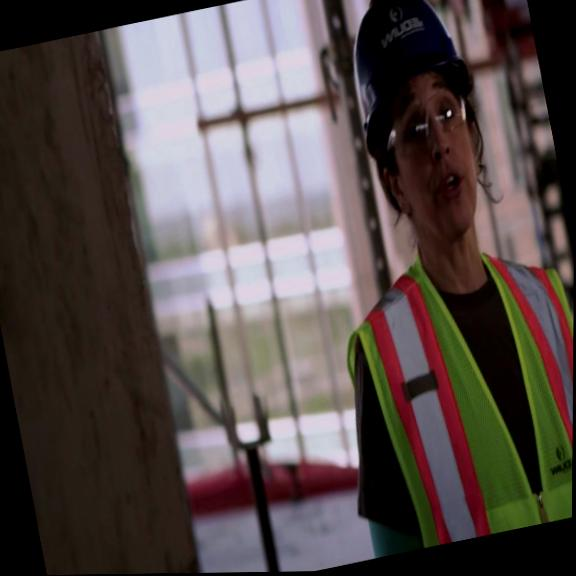safety_vest: (327, 221, 574, 557)
